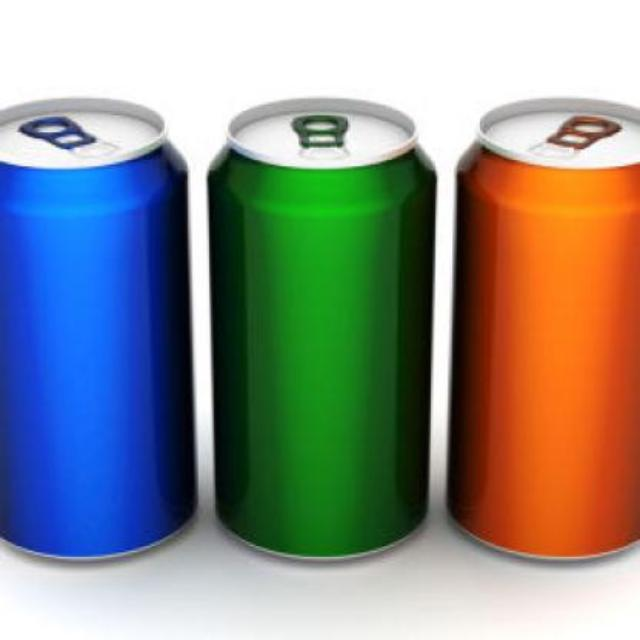metal: (206, 97, 432, 554), (0, 97, 192, 554), (448, 97, 637, 555)
